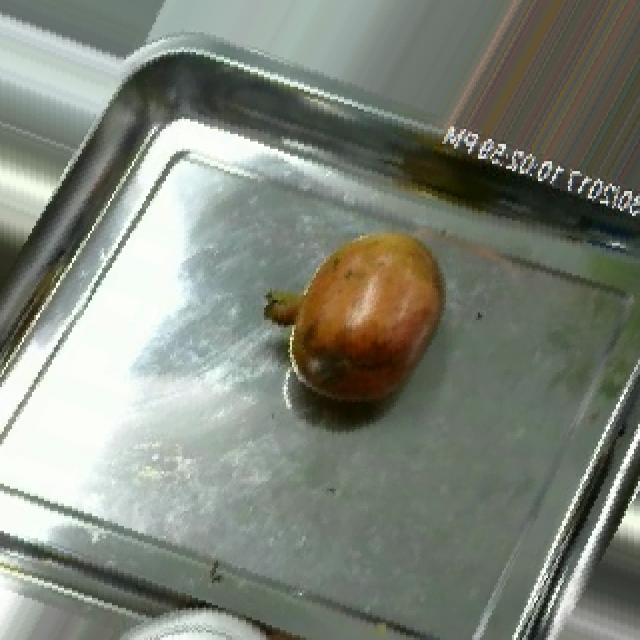fruit: (238, 204, 470, 436)
